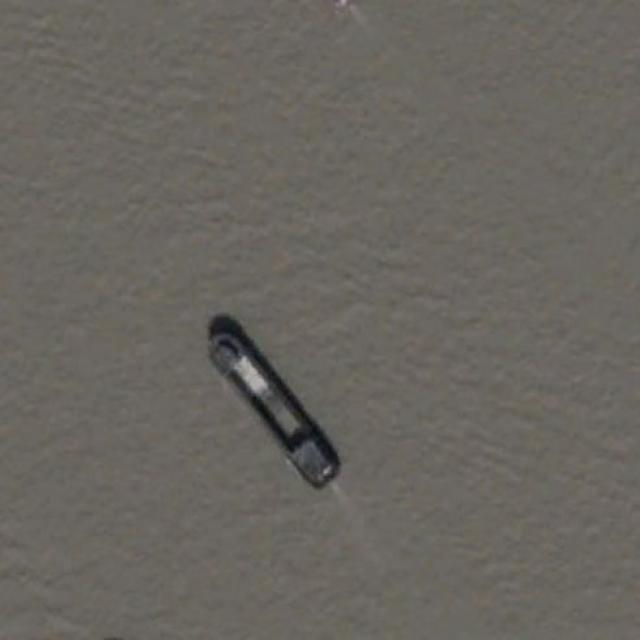boat: (203, 319, 341, 491)
